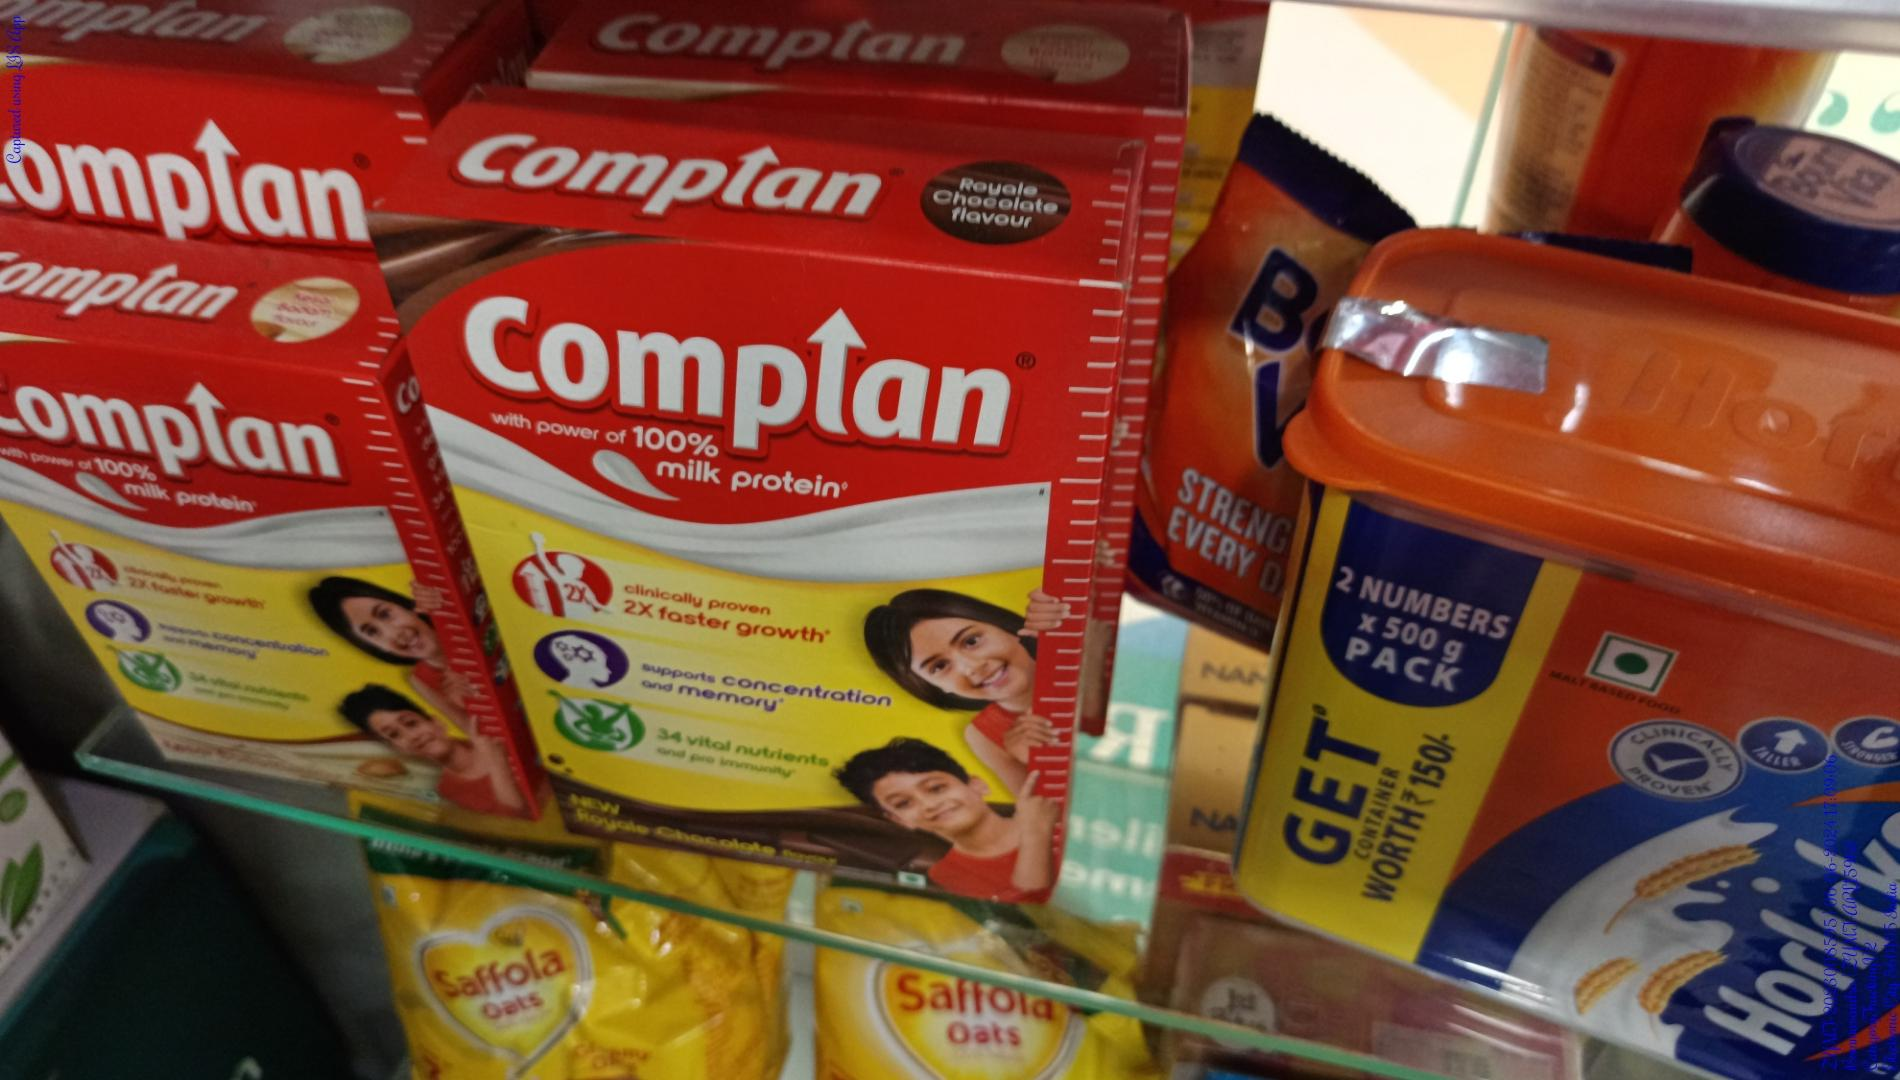COMPLAN_CHOCOLATE_1_KG_PACK: (444, 240, 1078, 927)
COMPLAN_KESAR_BADAM_500_GMS_PACK: (0, 357, 420, 814)
HORLICK_MALT_1_KG_CONTAINER: (1208, 464, 1900, 1080)
